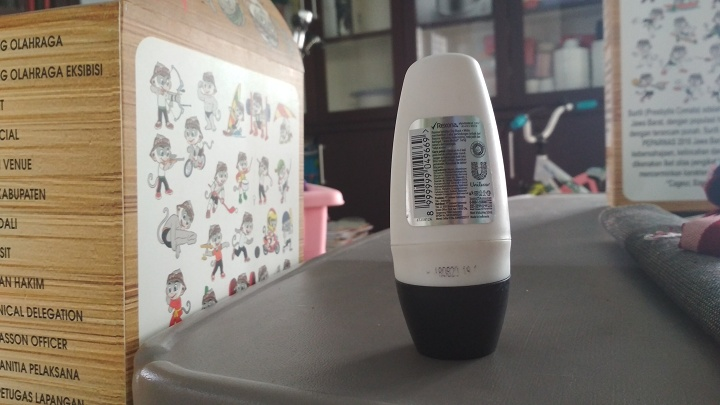rexona: (382, 49, 511, 358)
